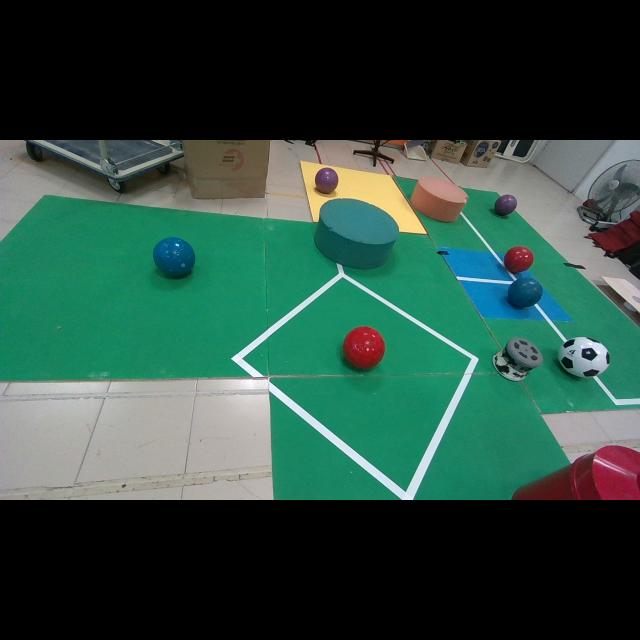B: (154, 239, 194, 278), (508, 278, 542, 309)
P: (315, 168, 339, 194), (495, 195, 518, 216)
R: (342, 326, 385, 369), (505, 246, 534, 273)
